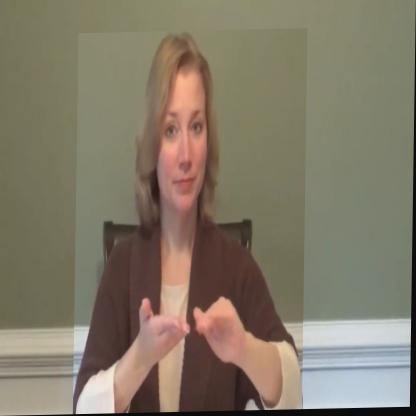ExcuseMe: (74, 30, 308, 415)
